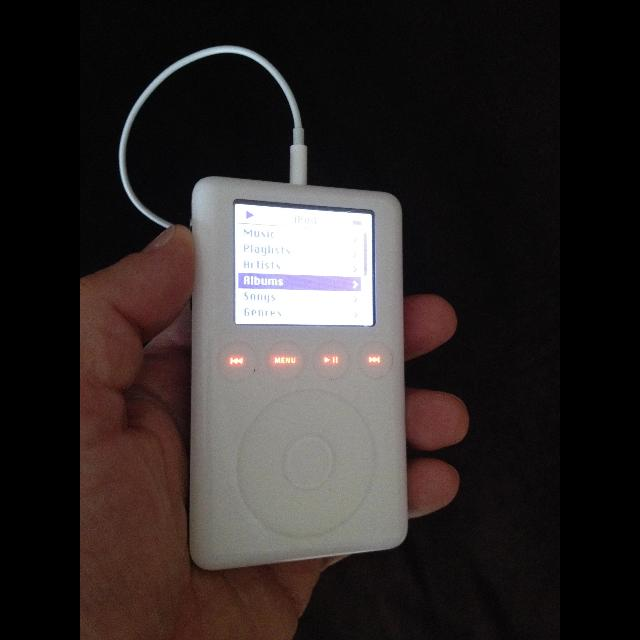Music-Player: (175, 167, 425, 586)
